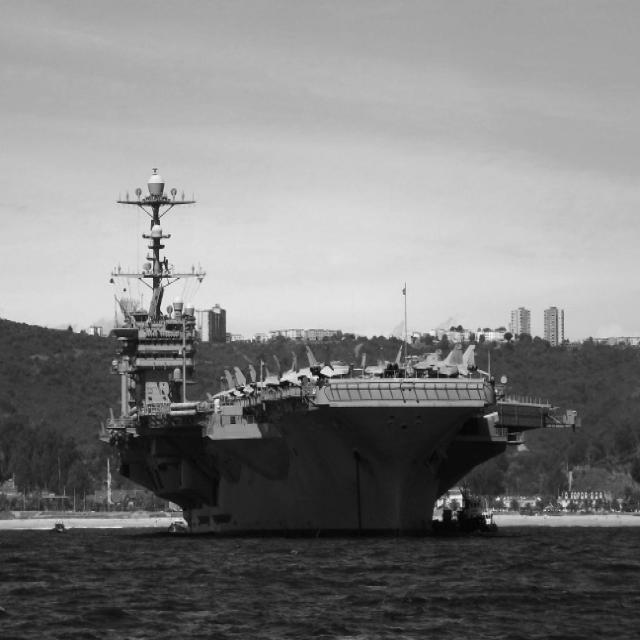Portanaves: (93, 155, 588, 544)
